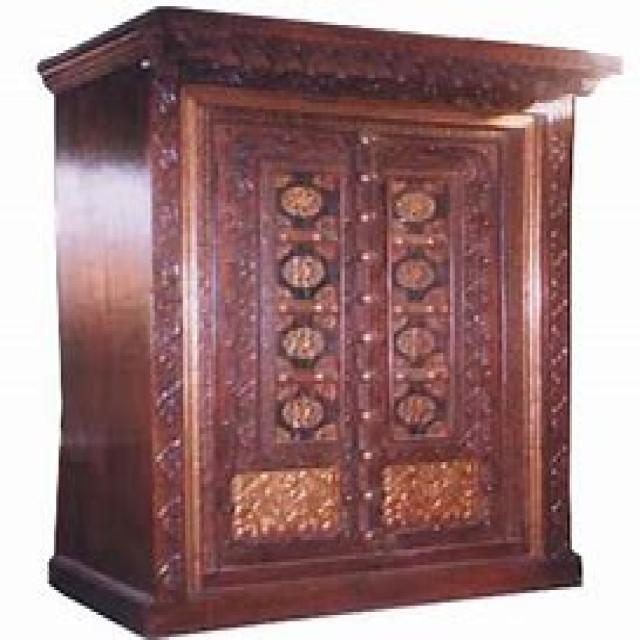dolap: (35, 3, 624, 637)
